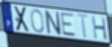E: (60, 12, 78, 38)
H: (91, 15, 109, 42)
N: (44, 10, 63, 37)
O: (30, 9, 45, 35)
T: (76, 12, 90, 40)
X: (13, 6, 31, 34)
